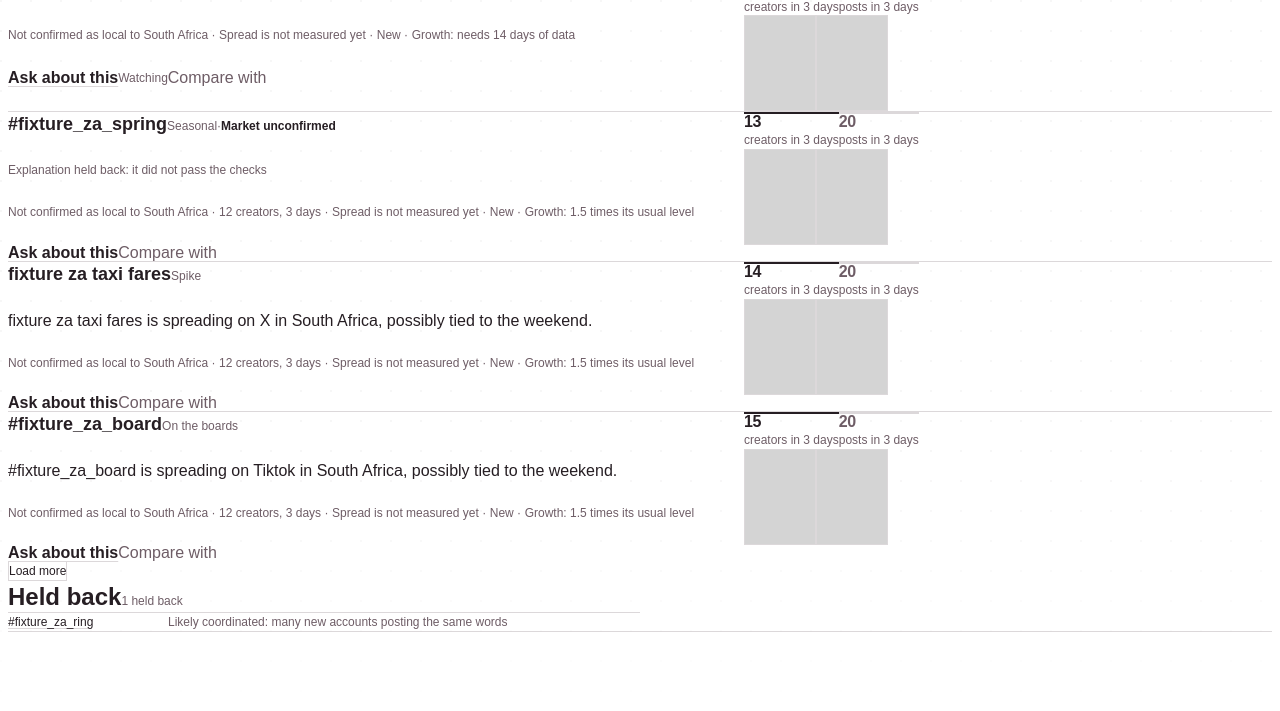
Test: Held back shows its count and opens each item to its reason and card
(page scrolled)
Expected: the element that starts with "Held back" shows "1 held back", [121, 594, 183, 608]
Step 1. Click the button "#fixture_za_ring" → (88, 622), box [8, 614, 168, 631]
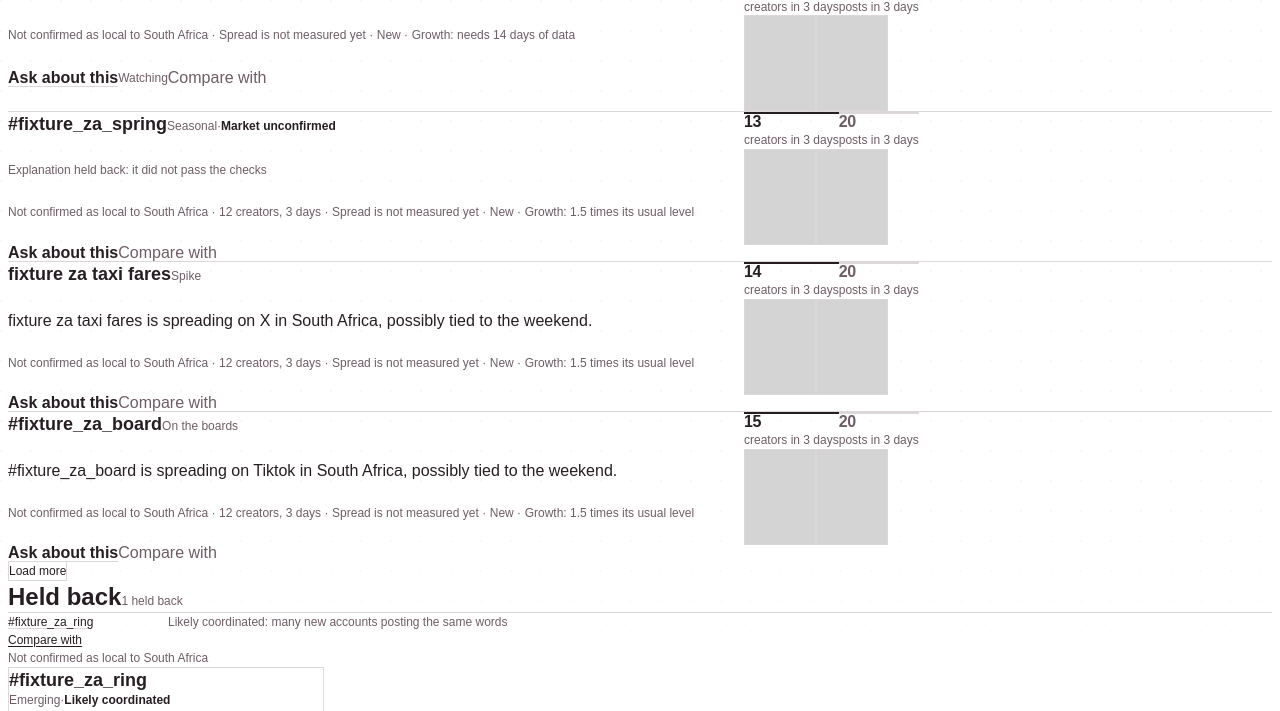
Expected: the element that starts with "Held back" shows "Likely coordinated: many new accounts posting the same words", [168, 615, 508, 629]
Result: the heading "#fixture_za_ring" is shown at [9, 670, 147, 690]
Result: the text with class "t42-flag" reads "Likely coordinated" at [64, 693, 170, 707]
